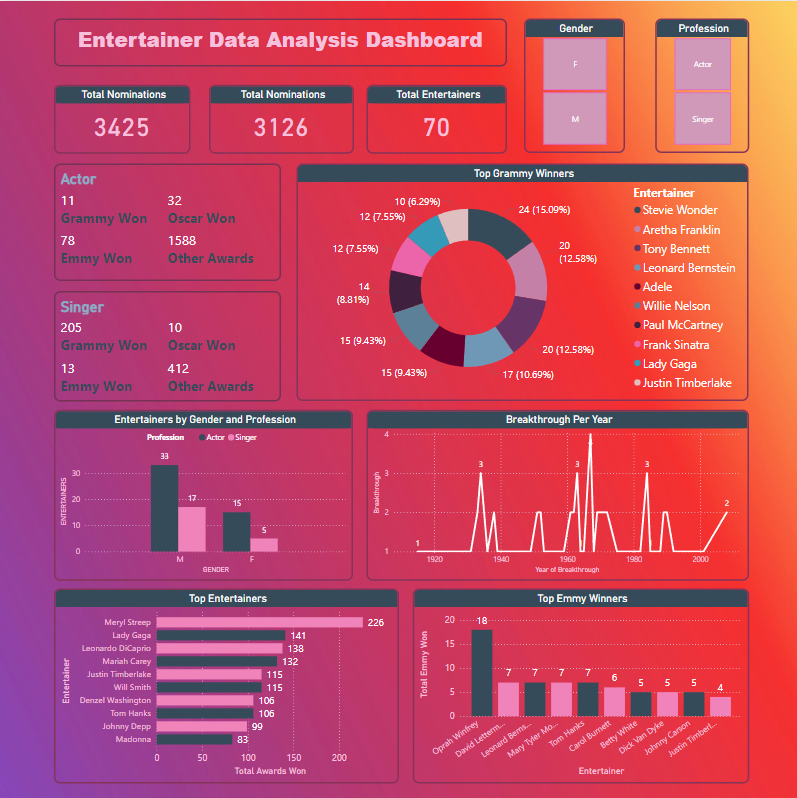

The dashboard page shown, as its layout file describes it:
{"tool":"powerbi","page":{"name":"Page 1","canvas":[1280,1280],"ordinal":0},"visuals":[{"type":"textbox","box":[88.3,28.3,725,76.7],"z":0},{"type":"card","title":"Total Nominations","fields":{"Values":["Sum(final entertainer.Total nominations)"]},"box":[88.3,133.3,218.3,110],"z":2000},{"type":"multiRowCard","fields":{"Values":["final entertainer.Profession     ","final entertainer.Grammy Won for Singer","final entertainer.Oscar Won for Singer","final entertainer.Emmy Won for Singer","final entertainer.Other Awards  for Singer"]},"box":[88.3,463.3,363.3,176.7],"z":3000},{"type":"card","title":"Total Nominations","fields":{"Values":["Sum(final entertainer.Total awards won)"]},"box":[335,133.3,231.7,110],"z":4000},{"type":"card","title":"Total Entertainers","fields":{"Values":["CountNonNull(final entertainer.Entertainer)"]},"box":[588.3,133.3,225,110],"z":5000},{"type":"slicer","title":"Gender","fields":{"Values":["final entertainer.Gender (traditional)"]},"box":[840,28.3,161.7,215],"z":6000},{"type":"slicer","title":"Profession","fields":{"Values":["final entertainer.Profession     "]},"box":[1050,28.3,150,215],"z":7000},{"type":"donutChart","title":"Top Grammy Winners","fields":{"Y":["Sum(final entertainer.Grammy Won)"],"Category":["final entertainer.Entertainer"]},"box":[476.7,260,723.3,380],"z":8000},{"type":"multiRowCard","fields":{"Values":["final entertainer.Profession     ","final entertainer.Grammy Won for Actor","final entertainer.Oscar Won for Actor","final entertainer.Emmy Won for Actor","final entertainer.Other Awards  for Actor"]},"box":[88.3,260,363.3,188.3],"z":8001},{"type":"clusteredColumnChart","title":"Entertainers by Gender and Profession     ","fields":{"Series":["final entertainer.Profession     "],"Y":["CountNonNull(final entertainer.Entertainer)"],"Category":["final entertainer.Gender (traditional)"]},"box":[88.3,653.3,478.3,273.3],"z":8002},{"type":"lineChart","title":"Breakthrough Per Year","fields":{"Y":["CountNonNull(final entertainer.Award Won from Breakthrough)"],"Category":["final entertainer.Year of Breakthrough/#1 Hit/Award Nomination"]},"box":[588.3,653.3,611.7,273.3],"z":8003},{"type":"clusteredBarChart","title":"Top Entertainers","fields":{"Y":["Sum(final entertainer.Total awards won)"],"Category":["final entertainer.Entertainer"]},"box":[88.3,940,551.7,311.7],"z":8004},{"type":"clusteredColumnChart","title":"Top Emmy Winners","fields":{"Y":["Sum(final entertainer.Emmy Won)"],"Category":["final entertainer.Entertainer"]},"box":[661.7,940,538.3,311.7],"z":8005}]}

Visuals, with their boxes in screenshot pixels (x1, y1, x2, y2), scaled from the page's 1280x1280 canvas onto the 797x798 screenshot:
textbox: bbox=(55, 18, 506, 65)
"Total Nominations" card: bbox=(55, 83, 191, 152)
multiRowCard - final entertainer.Profession      x final entertainer.Grammy Won for Singer: bbox=(55, 289, 281, 399)
"Total Nominations" card: bbox=(209, 83, 353, 152)
"Total Entertainers" card: bbox=(366, 83, 506, 152)
"Gender" slicer: bbox=(523, 18, 624, 152)
"Profession" slicer: bbox=(654, 18, 747, 152)
"Top Grammy Winners" donutChart: bbox=(297, 162, 747, 399)
multiRowCard - final entertainer.Profession      x final entertainer.Grammy Won for Actor: bbox=(55, 162, 281, 279)
"Entertainers by Gender and Profession     " clusteredColumnChart: bbox=(55, 407, 353, 578)
"Breakthrough Per Year" lineChart: bbox=(366, 407, 747, 578)
"Top Entertainers" clusteredBarChart: bbox=(55, 586, 398, 780)
"Top Emmy Winners" clusteredColumnChart: bbox=(412, 586, 747, 780)
